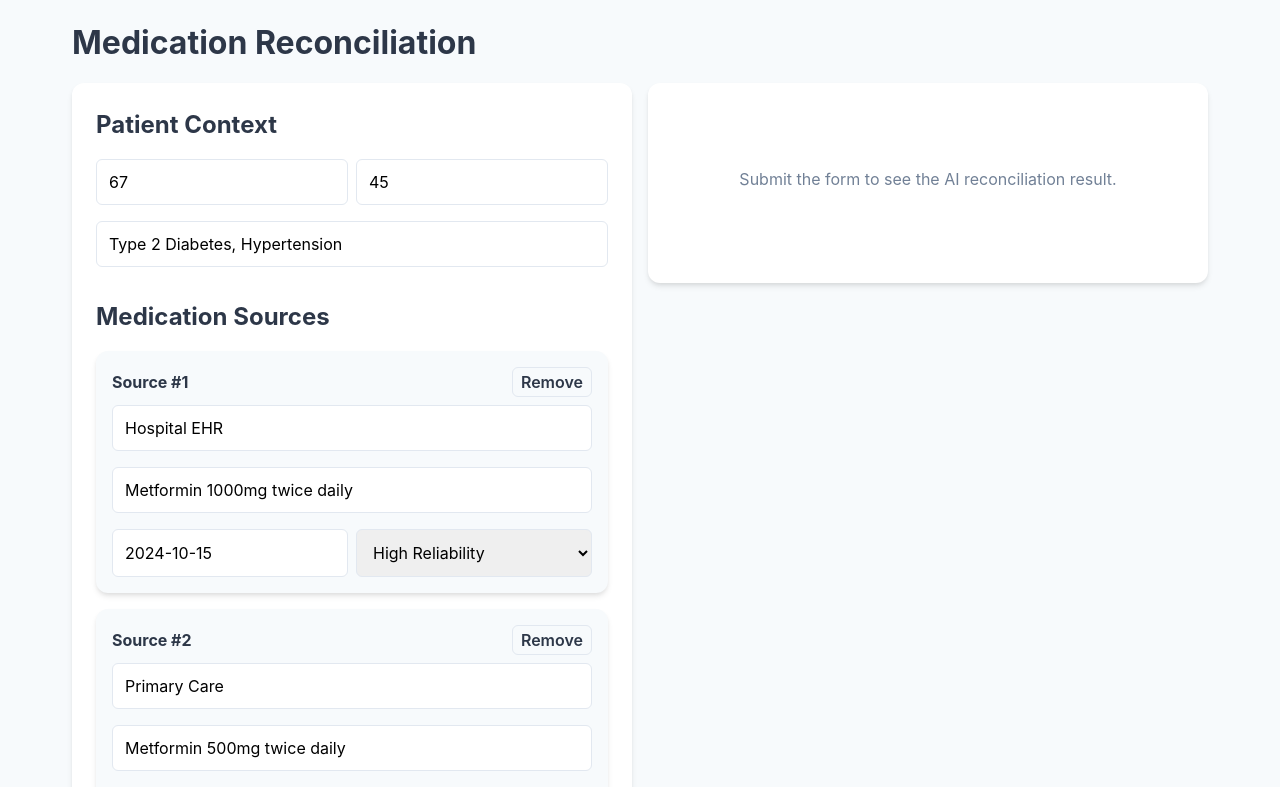
Test: Input Validation Logic › MedicationReconciliation Form › rejects missing patient context
Clear patient context age
Clear the 1st number field with placeholder "Age" at point(222, 182), box [96,159,348,205]
(page scrolled)
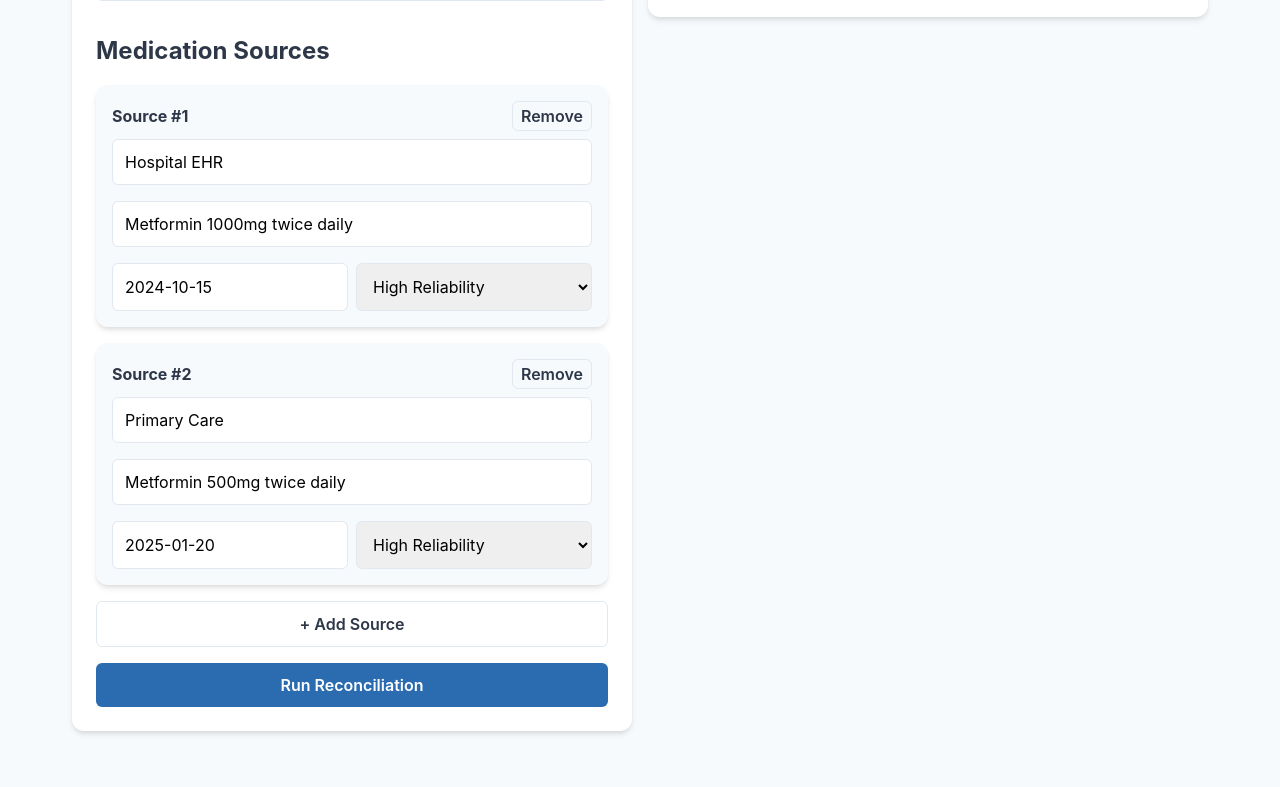
Attempt to submit
Click the button "Run Reconciliation" at point(352, 685), box [96,663,608,707]
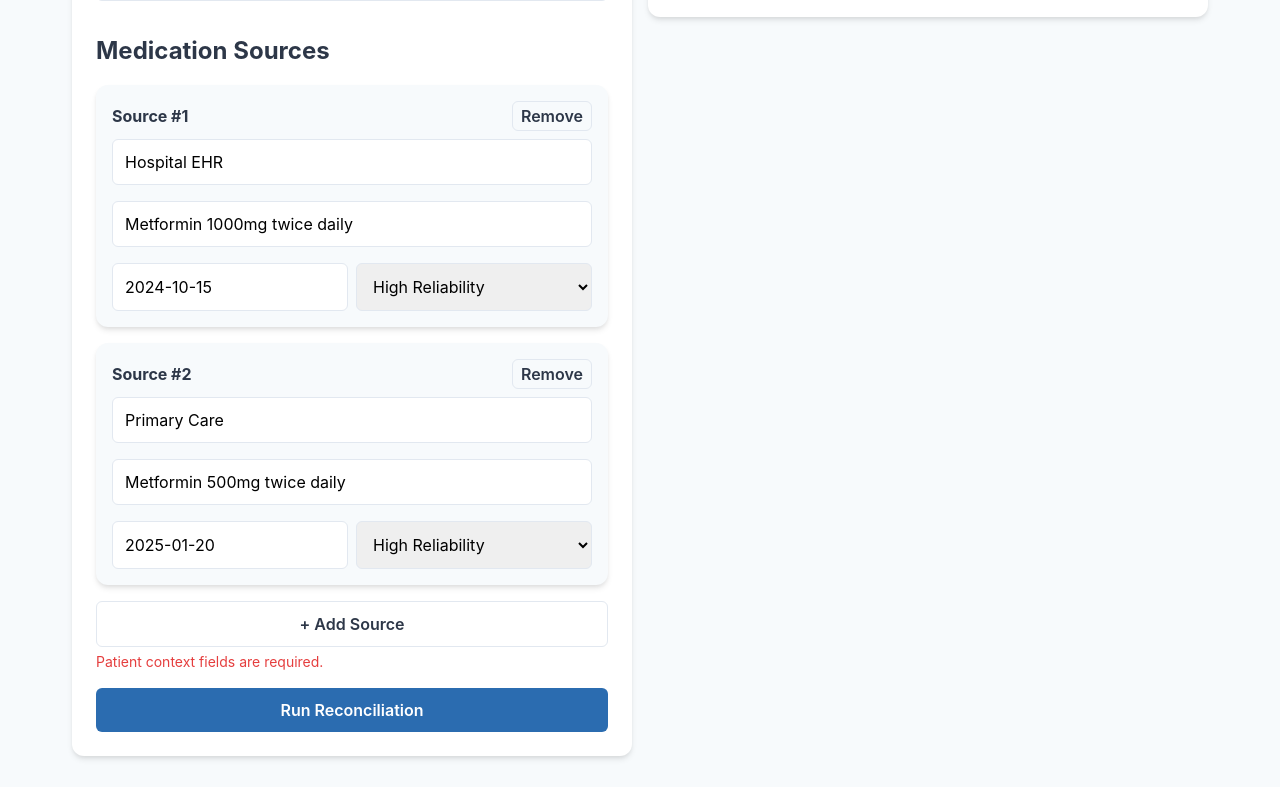
expect the text "Patient context fields are required." is shown: met, box [96,653,323,670]
